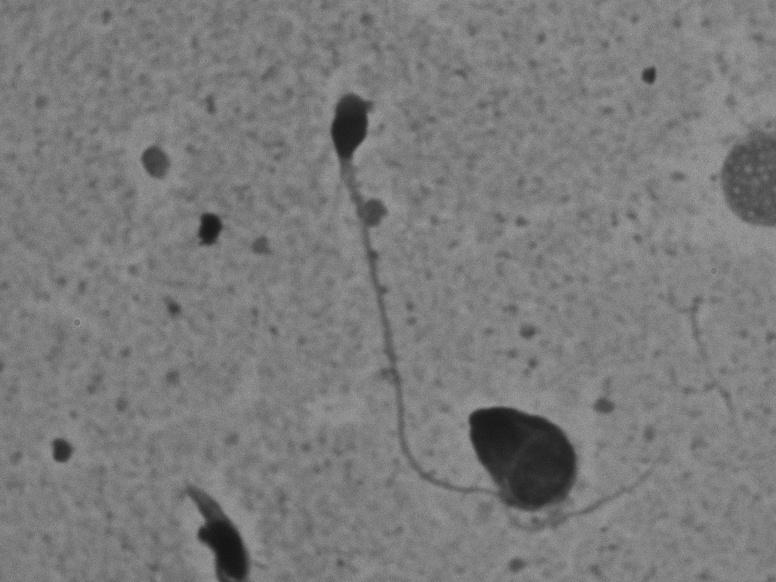Abnormal: (291, 85, 674, 547)
